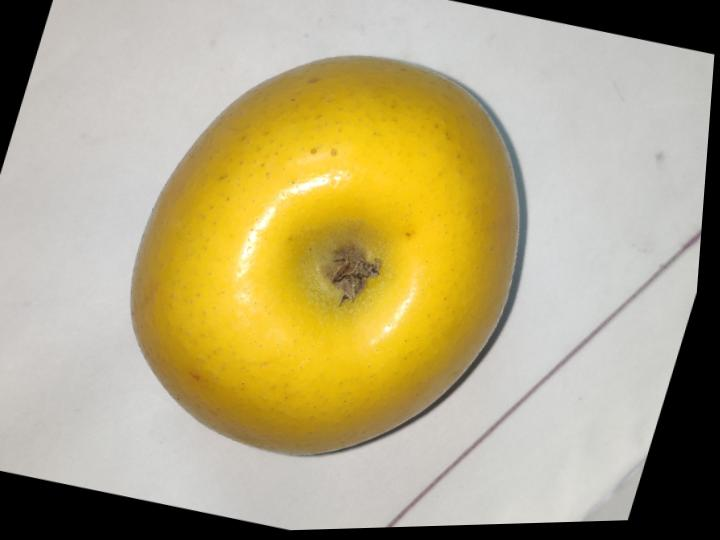apple: (131, 57, 518, 454)
